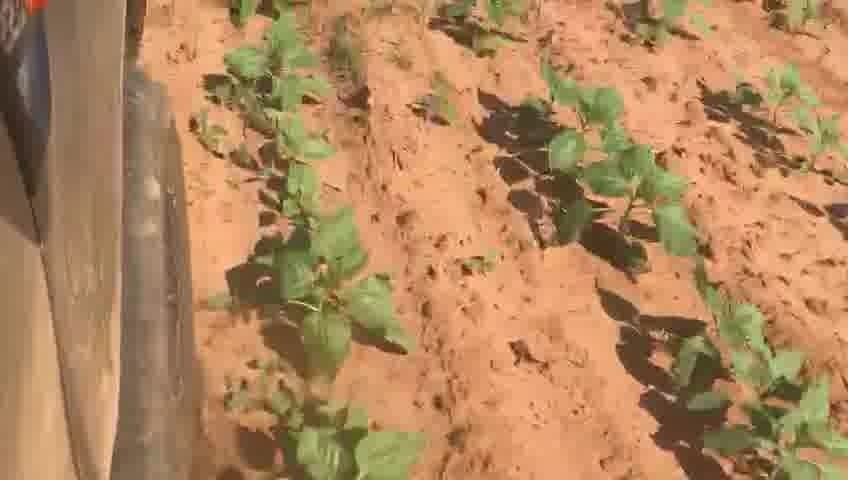sunflower: (253, 213, 412, 381), (498, 57, 656, 163), (660, 292, 805, 405), (579, 141, 701, 266), (267, 395, 428, 476), (217, 24, 326, 124), (700, 397, 837, 476), (243, 114, 334, 209), (738, 63, 815, 134), (439, 7, 540, 51), (791, 107, 838, 176), (636, 4, 703, 46)
